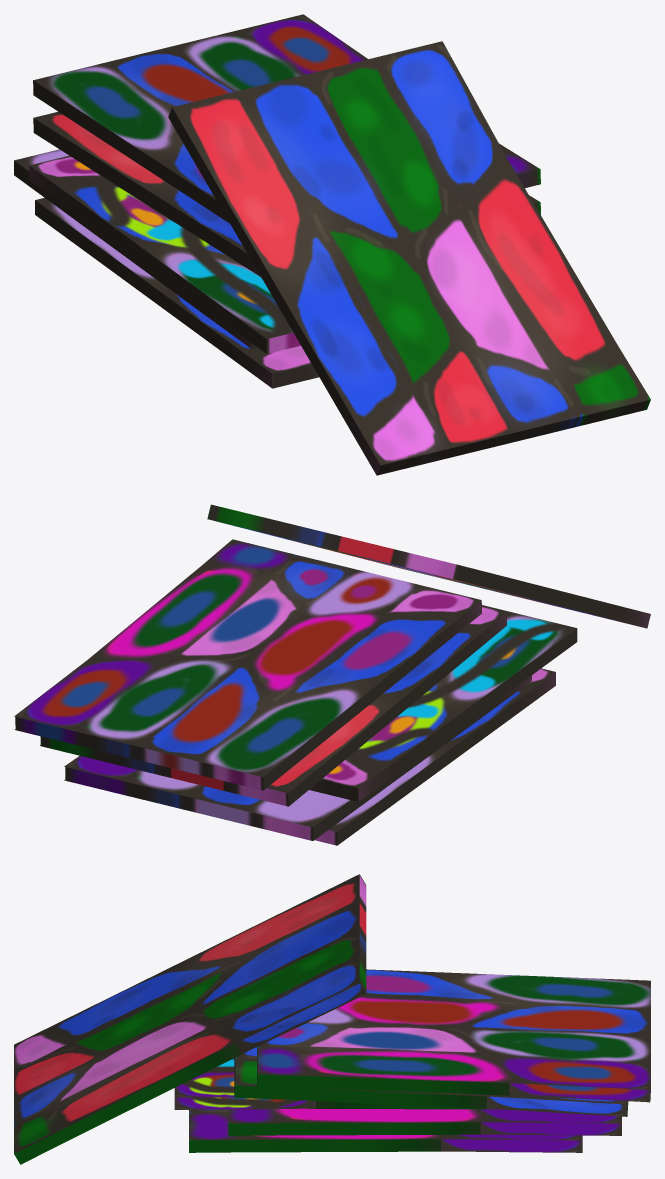
File: yığın halinde vitray2.fbx
3 views of the same model, one above another, from view 1: azimuth 30°, elevation 25°; view 2: azimuth 150°, elevation 25°; view 3: azimuth 270°, elevation 25° (orthographic). The views are drawn at different scales.
Parts seen in each view (by area): view 1: vitray6, vitray5, vitray3, vitray4, vitray1, vitray2; view 2: vitray5, vitray3, vitray4, vitray2, vitray6, vitray1; view 3: vitray6, vitray5, vitray2, vitray1, vitray4, vitray3.
Part boxes in pixels (<box>): vitray6: <box>168,41,650,475</box>; vitray5: <box>33,14,540,223</box>; vitray3: <box>29,155,300,353</box>; vitray4: <box>33,111,540,276</box>; vitray1: <box>35,198,318,388</box>; vitray2: <box>14,149,257,348</box>; vitray5: <box>14,539,481,790</box>; vitray3: <box>309,605,577,801</box>; vitray4: <box>40,606,506,806</box>; vitray2: <box>64,675,531,840</box>; vitray6: <box>207,504,650,628</box>; vitray1: <box>315,668,555,845</box>; vitray6: <box>14,874,366,1164</box>; vitray5: <box>257,969,650,1102</box>; vitray2: <box>228,1108,621,1135</box>; vitray1: <box>189,1109,582,1152</box>; vitray4: <box>234,1047,628,1116</box>; vitray3: <box>174,1058,493,1109</box>.
Size of the model in its own units: 158 by 102 by 324.
